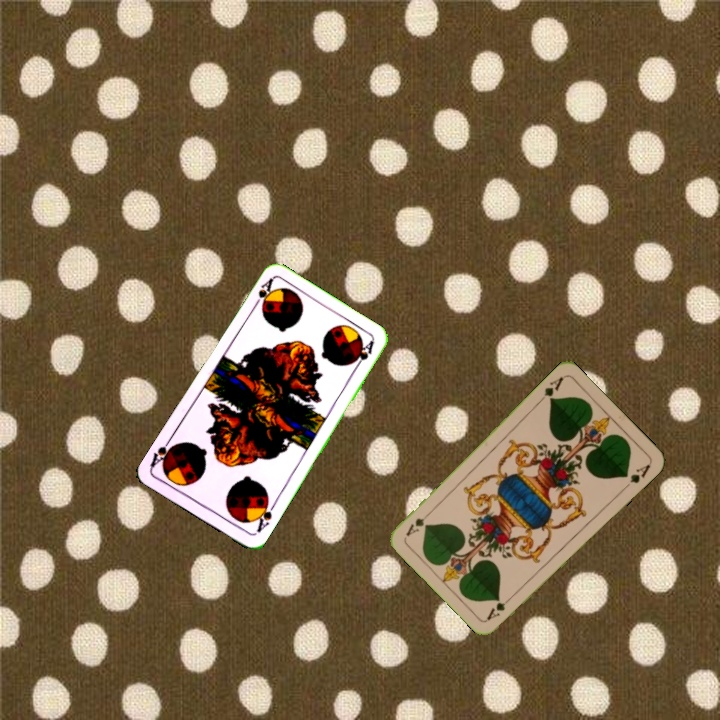GA: (534, 373, 566, 406), (483, 591, 516, 623)
SA: (250, 496, 278, 535), (249, 274, 276, 313)
